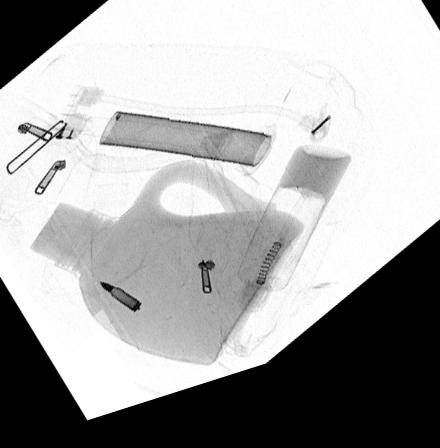Bullet: (98, 288, 141, 322)
